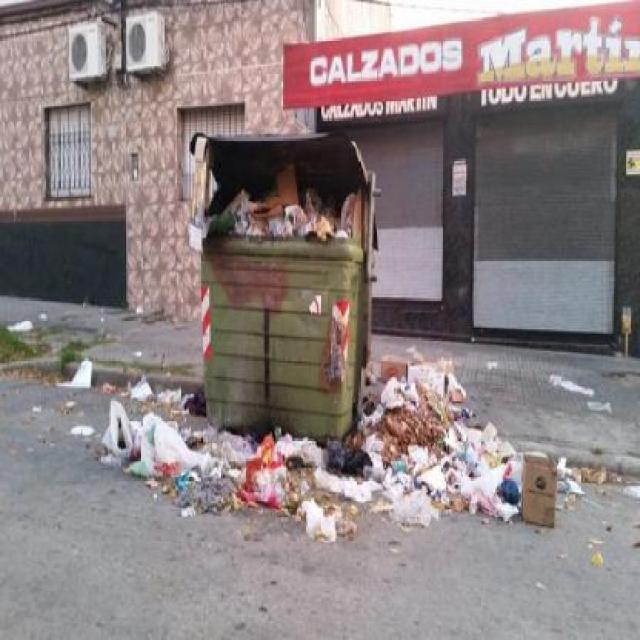garbage: (371, 343, 560, 536), (106, 395, 348, 538), (191, 142, 360, 246), (337, 363, 376, 522), (128, 371, 203, 418), (559, 454, 628, 492), (65, 354, 95, 396)
